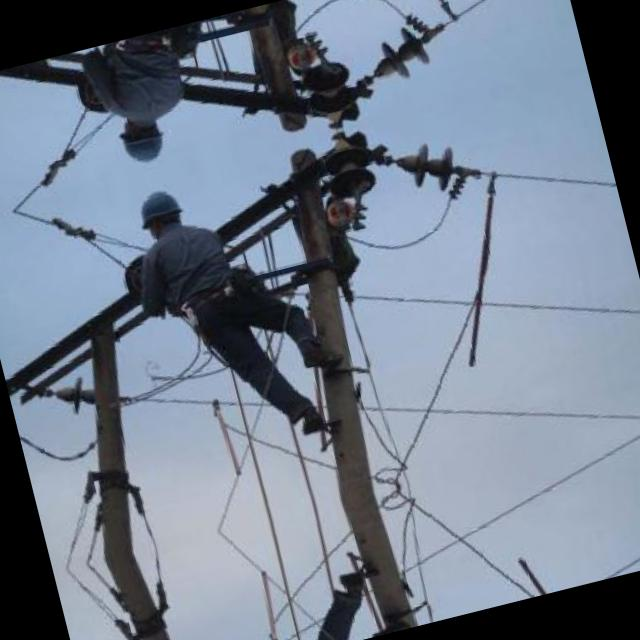helmet: (128, 179, 192, 246), (110, 104, 174, 171)
